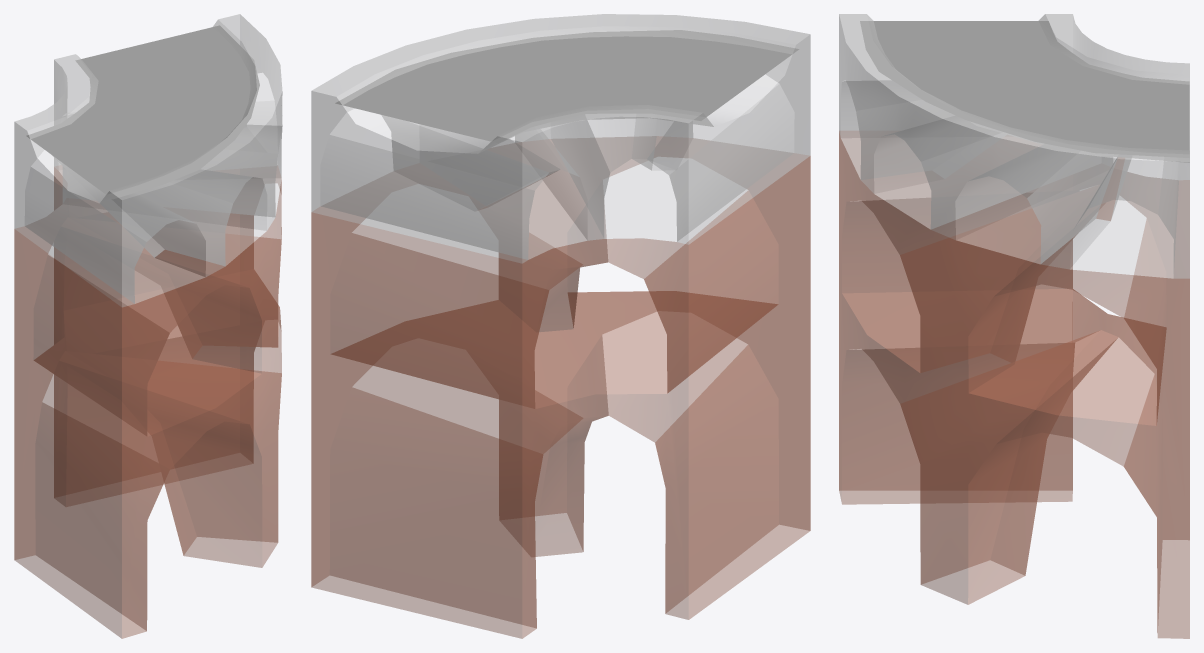
3 renders of one model, left to right at view 1: azimuth 30°, elevation 25°; view 2: azimuth 150°, elevation 25°; view 3: azimuth 270°, elevation 25°, orthographic. The views are drawn at different scales.
Visible parts, largest first — view 1: mesh, pPlane1; view 2: mesh, pPlane1; view 3: mesh, pPlane1.
Boxes of the visible parts, x1=… form: mesh: x1=14, y1=14, x2=282, y2=638; pPlane1: x1=26, y1=25, x2=259, y2=199; mesh: x1=311, y1=14, x2=810, y2=638; pPlane1: x1=335, y1=30, x2=798, y2=143; mesh: x1=839, y1=14, x2=1189, y2=638; pPlane1: x1=860, y1=21, x2=1189, y2=157.
Size of the model in its own units: 75.01 by 112 by 75.01.
